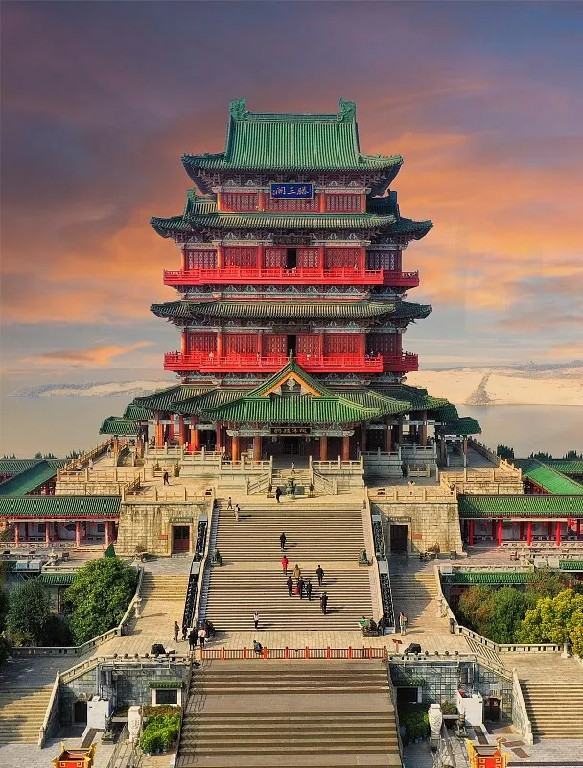Teng: (101, 98, 480, 467)
